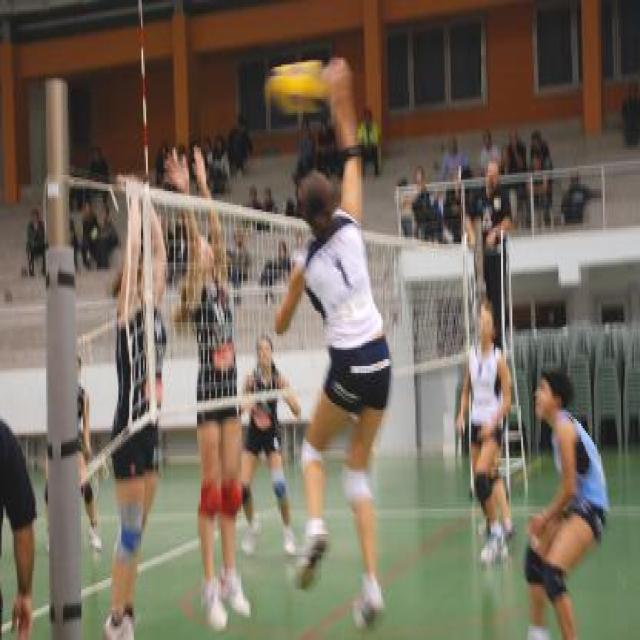volleyball: (265, 61, 329, 116)
